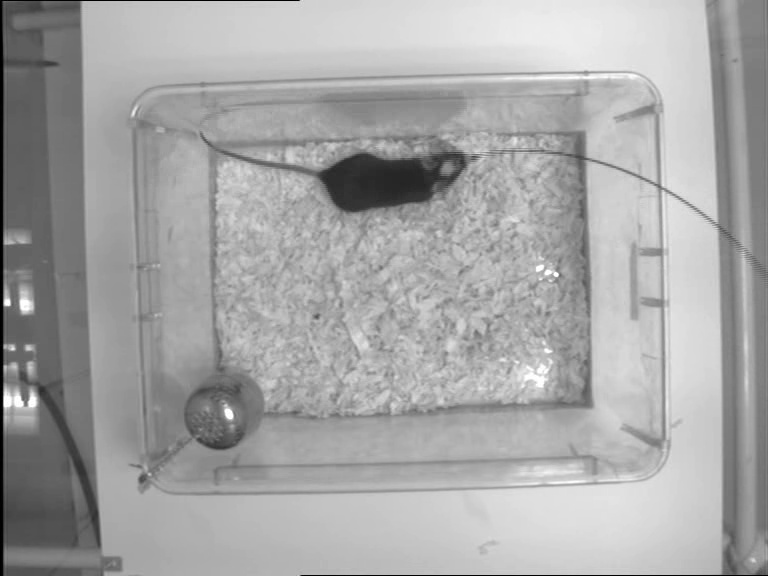mice: (200, 132, 471, 213)
